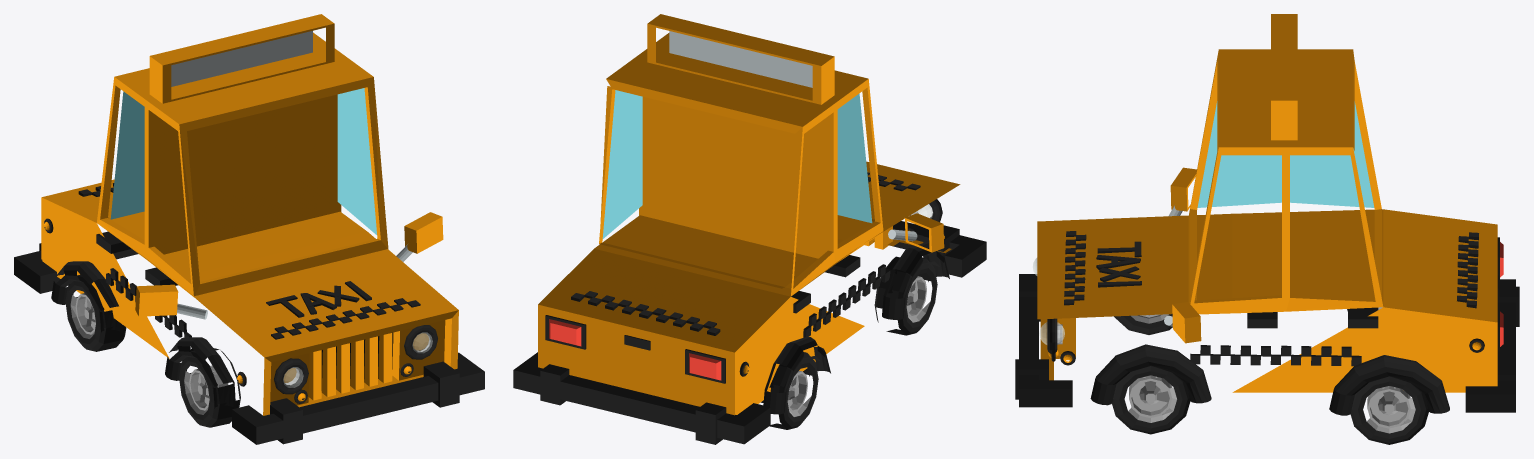
Rendered from scene_UJqMTBz6Gj.glb.
The picture shows the model from 3 angles, left to right: view 1: azimuth 30°, elevation 25°; view 2: azimuth 150°, elevation 25°; view 3: azimuth 270°, elevation 25°; orthographic projection. The views are drawn at different scales.
Parts seen in each view (by area): view 1: Node; view 2: Node; view 3: Node.
Part boxes in pixels (<box>): Node: <box>14,14,484,444</box>; Node: <box>513,14,986,444</box>; Node: <box>1015,14,1519,444</box>.
Bounding box in the file's own units: 1.08 × 1.1 × 1.5.
